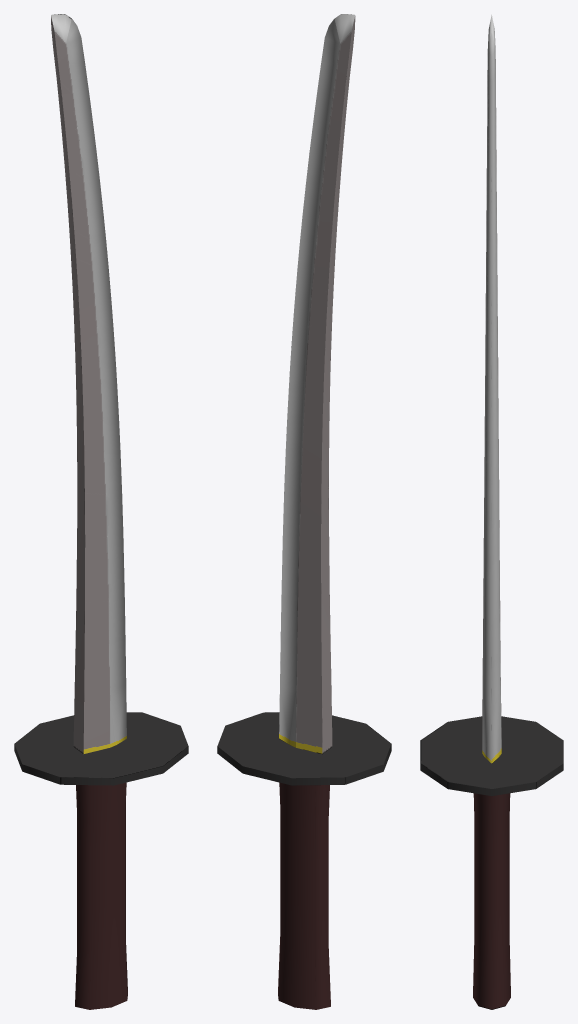
File: Sword.fbx
3 views of the same model, side by side, from view 1: azimuth 30°, elevation 25°; view 2: azimuth 150°, elevation 25°; view 3: azimuth 270°, elevation 25° (orthographic). The views are drawn at different scales.
Visible parts, largest first — view 1: ProtoSword; view 2: ProtoSword; view 3: ProtoSword.
Boxes of the visible parts, x1,y1,x2,y2 form: ProtoSword: (14, 14, 188, 1009); ProtoSword: (217, 14, 391, 1009); ProtoSword: (420, 14, 563, 1009).
Size of the model in its own units: 8.07 by 48.58 by 6.57.
